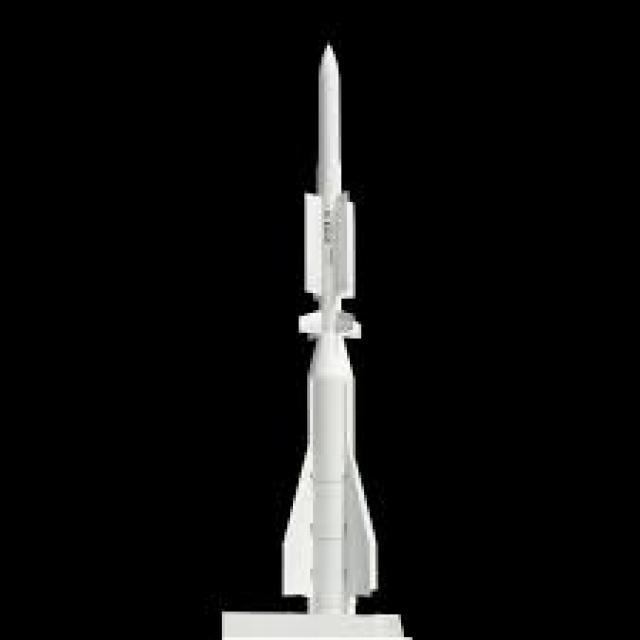missile: (308, 36, 352, 210)
